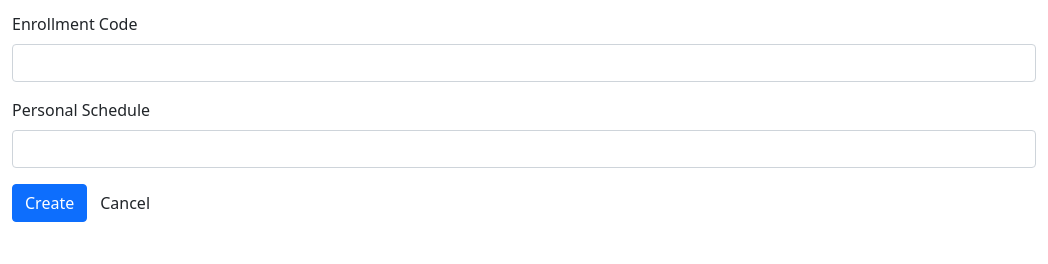
Scenario: CourseForm tests › Correct Error messages on missing input
The image size is (1048, 264).
What coordinates should you click on to do the following:
click the button with test id "CourseForm-submit"
I would click on:
 (50, 203)
Its box is [12,184,87,222].
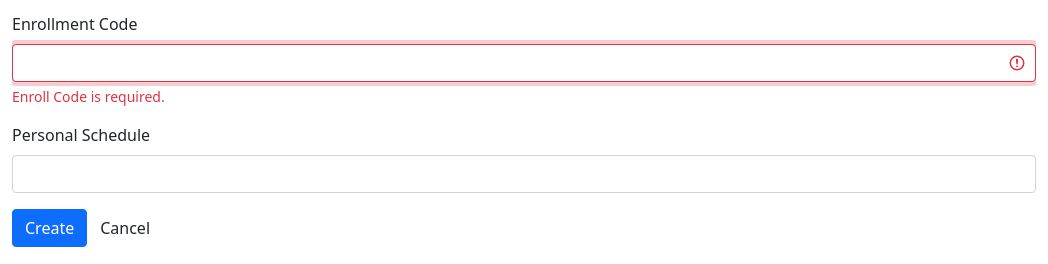
Now the text "Enroll Code is required." is shown, box [12,87,165,106]
